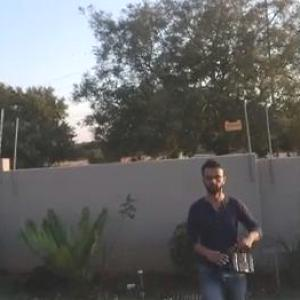follow: (181, 151, 270, 299)
